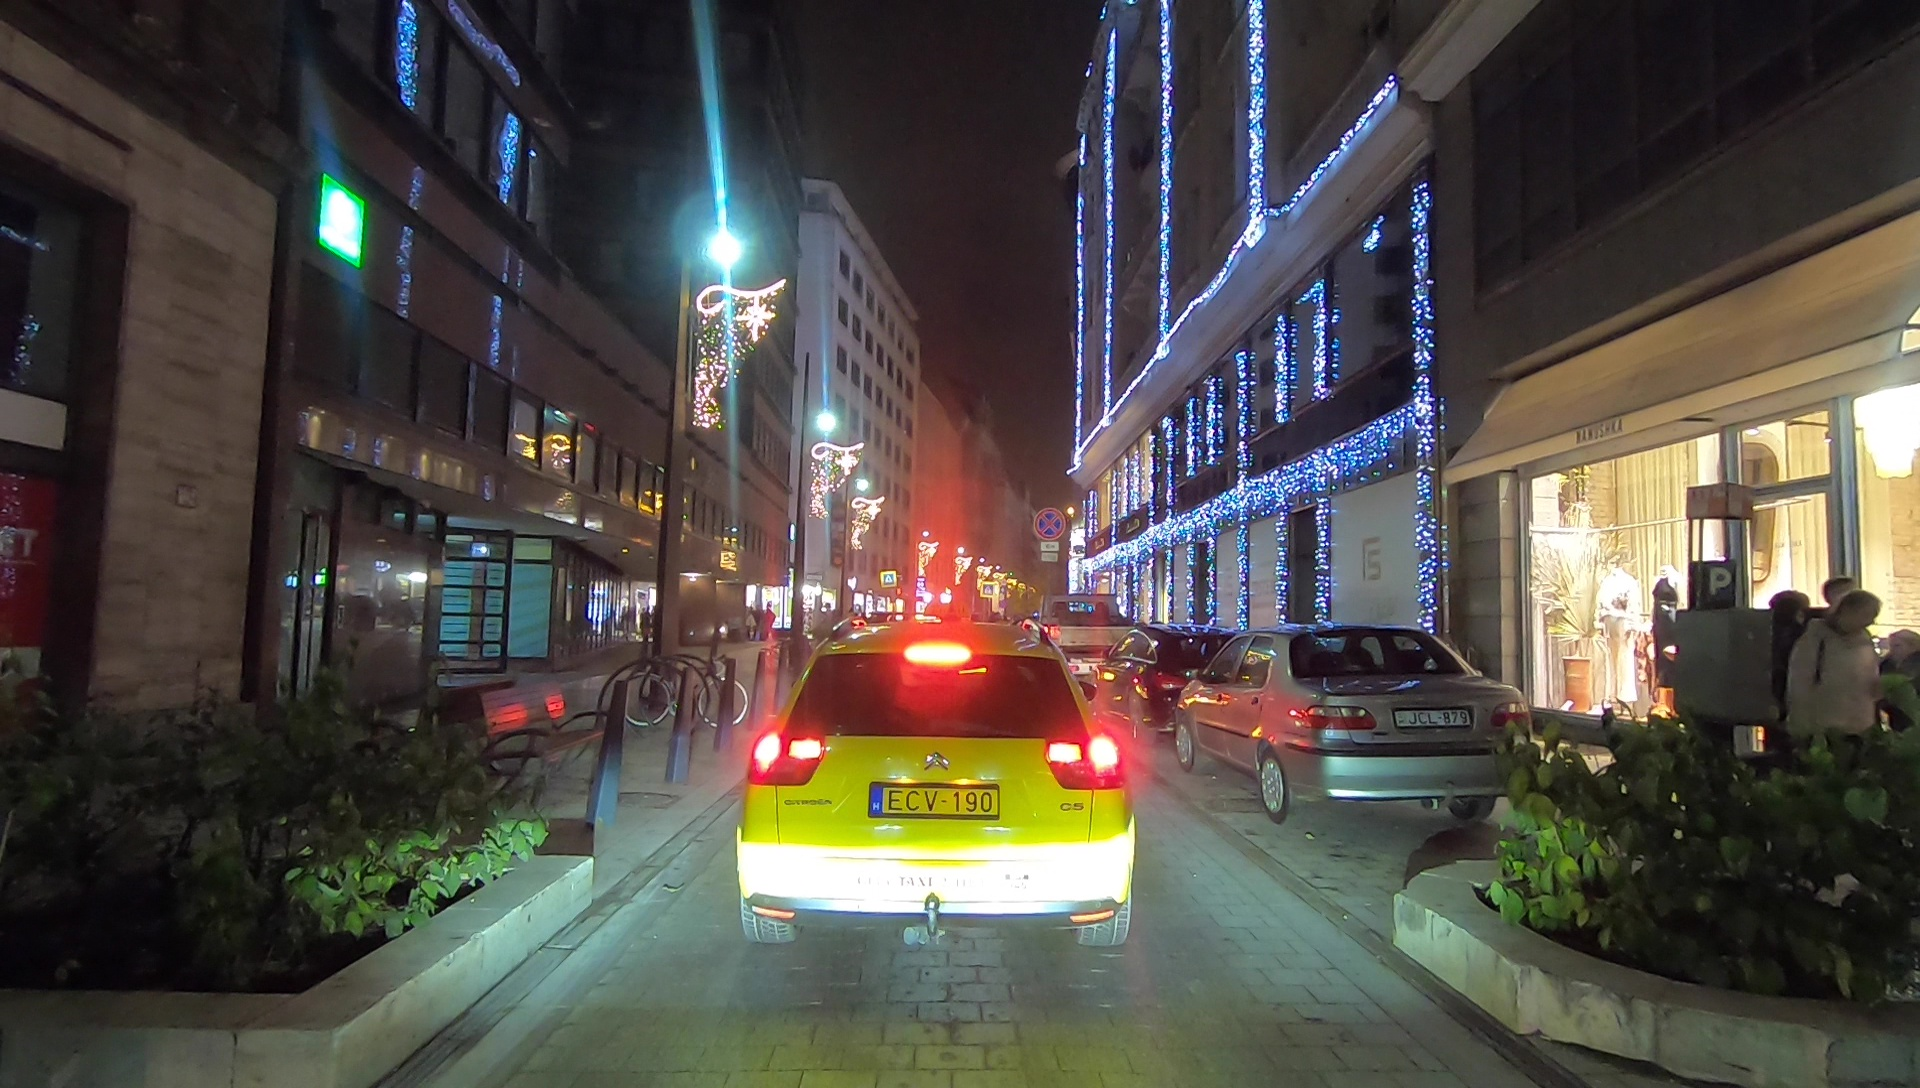person: (1810, 595, 1880, 787), (1769, 582, 1815, 756), (1875, 628, 1920, 759)
